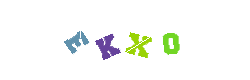E: (38, 0, 118, 80)
K: (67, 0, 147, 80)
O: (113, 0, 193, 80)
X: (85, 0, 165, 80)
